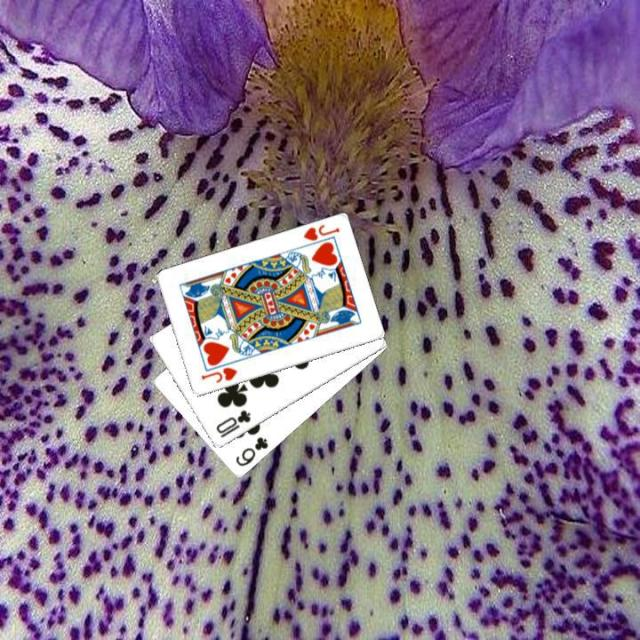10C: (212, 406, 252, 440)
6C: (231, 433, 270, 468)
JH: (299, 221, 342, 243), (197, 363, 239, 385)
